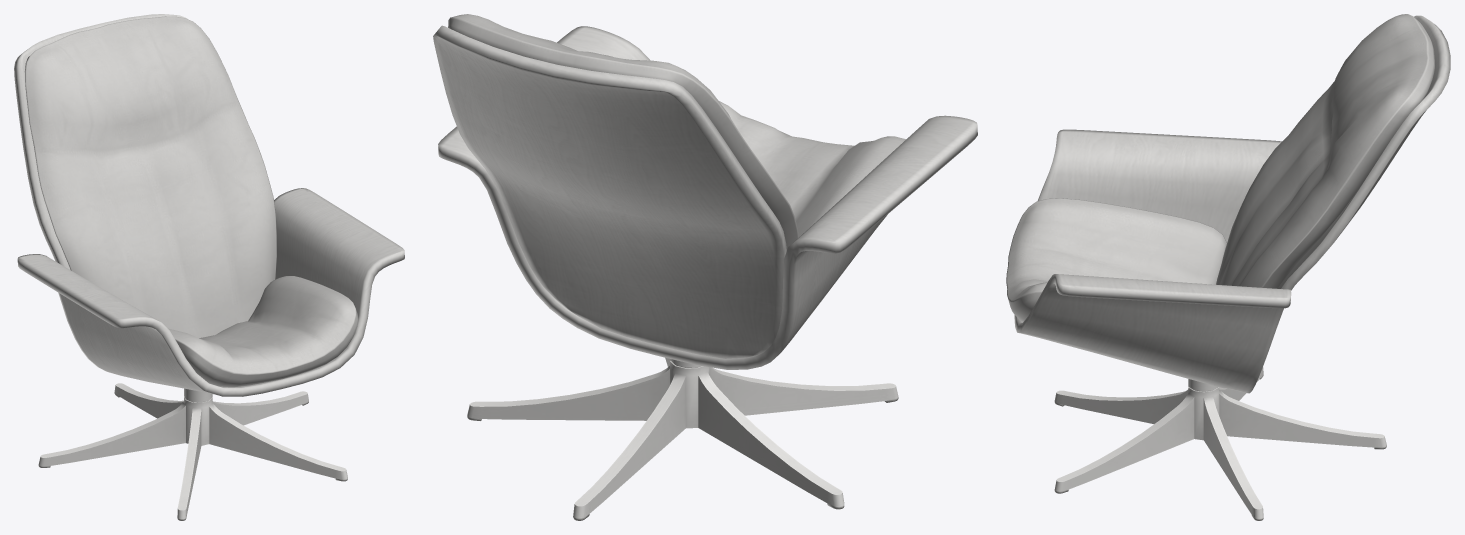
The model's file is poltroncina.glb.
3 views of the same model, side by side, from view 1: azimuth 30°, elevation 25°; view 2: azimuth 150°, elevation 25°; view 3: azimuth 270°, elevation 25° (orthographic). The views are drawn at different scales.
Parts seen in each view (by area): view 1: mid_century_lounge_chair; view 2: mid_century_lounge_chair; view 3: mid_century_lounge_chair.
Part boxes in pixels (x1,y1,x2,y2): mid_century_lounge_chair: (14,14,404,520); mid_century_lounge_chair: (433,14,977,520); mid_century_lounge_chair: (1006,14,1450,520).
Bounding box in the file's own units: 1.01 × 1.17 × 1.19.
1 material, 1 textured.
